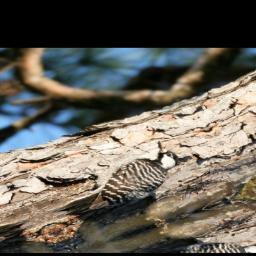Woodpecker: (26, 139, 201, 226)
